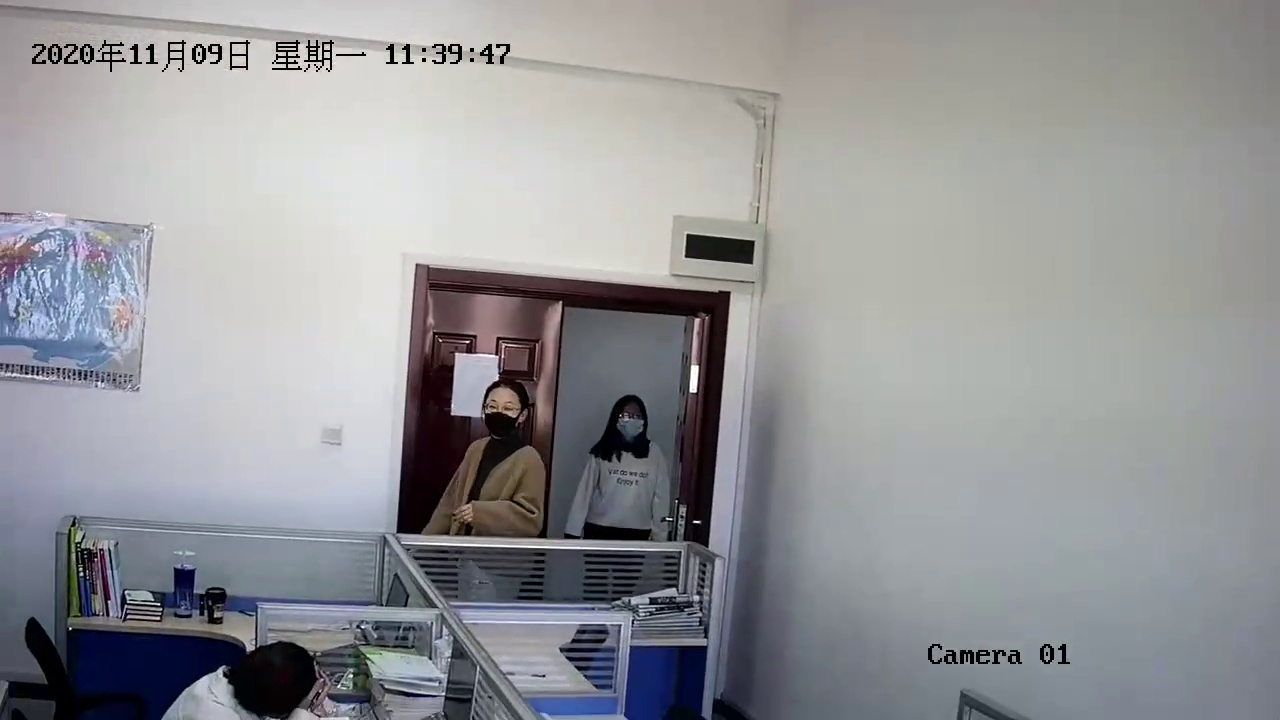mask: (480, 378, 533, 444), (604, 391, 654, 449)
